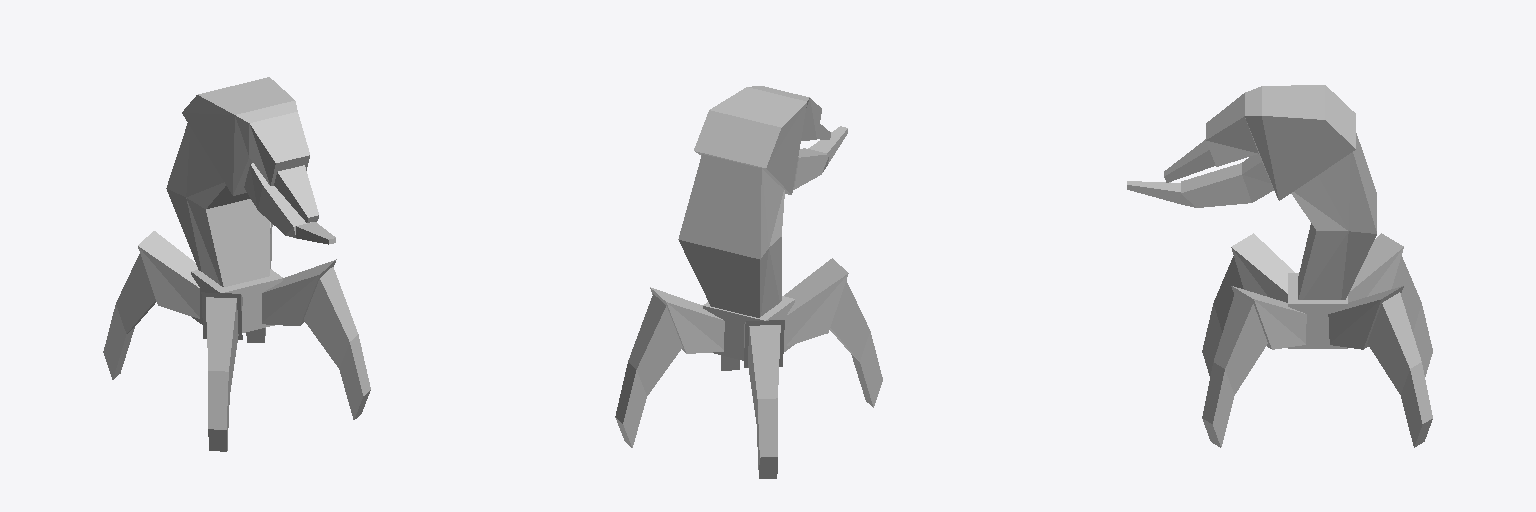
File: joust.obj
The picture shows the model from 3 angles: view 1: azimuth 30°, elevation 25°; view 2: azimuth 150°, elevation 25°; view 3: azimuth 270°, elevation 25°; orthographic projection.
Visible parts, largest first — view 1: Head, Neck, FrontLeftLeg, BackRightLeg, FrontRightLeg, Mouth, Body; view 2: Neck, Head, BackLeftLeg, FrontRightLeg, BackRightLeg, Body, Mouth; view 3: Head, Neck, FrontLeftLeg, BackLeftLeg, FrontRightLeg, Mouth, BackRightLeg, Body.
Part boxes in pixels (x1,y1,x2,y2): Head: (182,77,318,222); Neck: (166,123,269,286); FrontLeftLeg: (262,259,370,419); BackRightLeg: (103,231,199,379); FrontRightLeg: (201,292,242,451); Mouth: (244,163,335,244); Body: (191,269,282,332); Neck: (678,154,784,317); Head: (694,86,830,194); BackLeftLeg: (615,287,724,447); FrontRightLeg: (784,258,882,407); BackRightLeg: (744,320,784,478); Body: (703,296,794,360); Mouth: (793,126,847,189); Head: (1164,85,1355,200); Neck: (1291,133,1376,299); FrontLeftLeg: (1202,286,1306,447); BackLeftLeg: (1328,286,1432,447); FrontRightLeg: (1202,233,1294,375); Mouth: (1127,154,1273,207); BackRightLeg: (1348,233,1432,376); Body: (1288,273,1347,348).
Size of the model in its own units: 1.21 by 2.2 by 1.97.